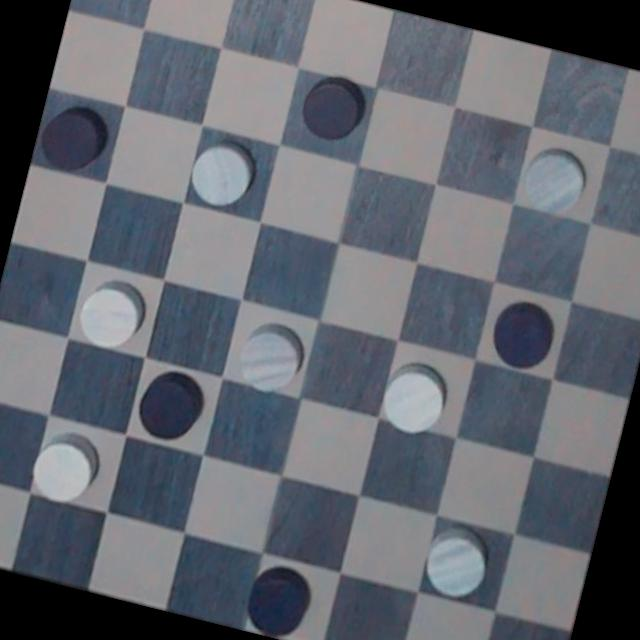BOARD: (0, 0, 640, 640)
black: (232, 546, 332, 640), (478, 284, 566, 380), (29, 93, 114, 181), (295, 64, 378, 149), (130, 362, 210, 448)
white: (20, 414, 116, 518), (369, 348, 459, 448), (512, 130, 600, 228), (226, 304, 313, 403), (412, 516, 498, 610), (176, 130, 264, 219), (70, 268, 152, 356)
